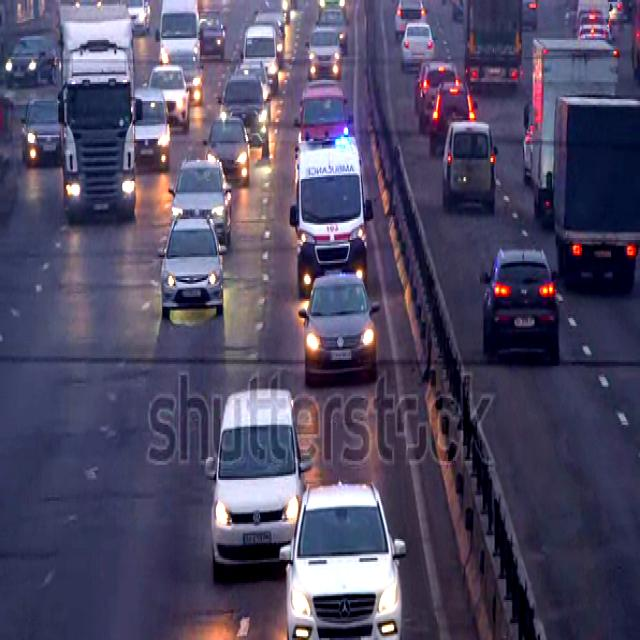ambulance: (288, 131, 376, 299)
